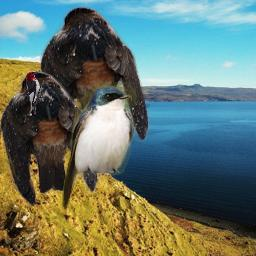Swallow: (40, 7, 150, 158), (0, 72, 99, 208), (62, 81, 136, 210)
Woodpecker: (26, 70, 44, 115)
